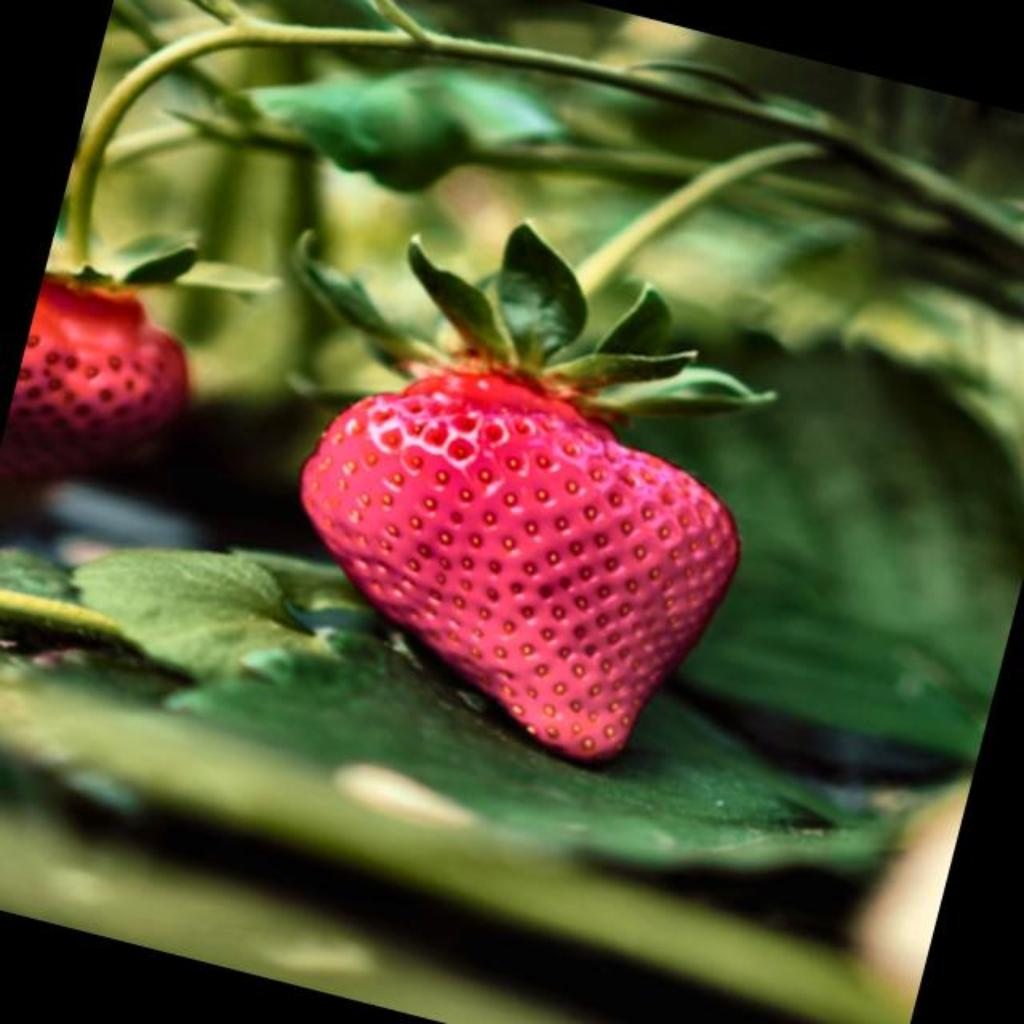strawberry: (302, 370, 740, 761), (0, 276, 188, 480)
